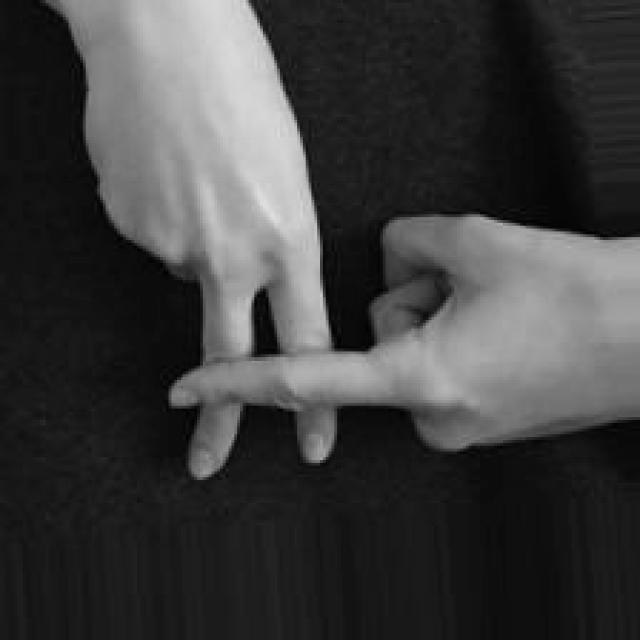A: (85, 59, 640, 483)
